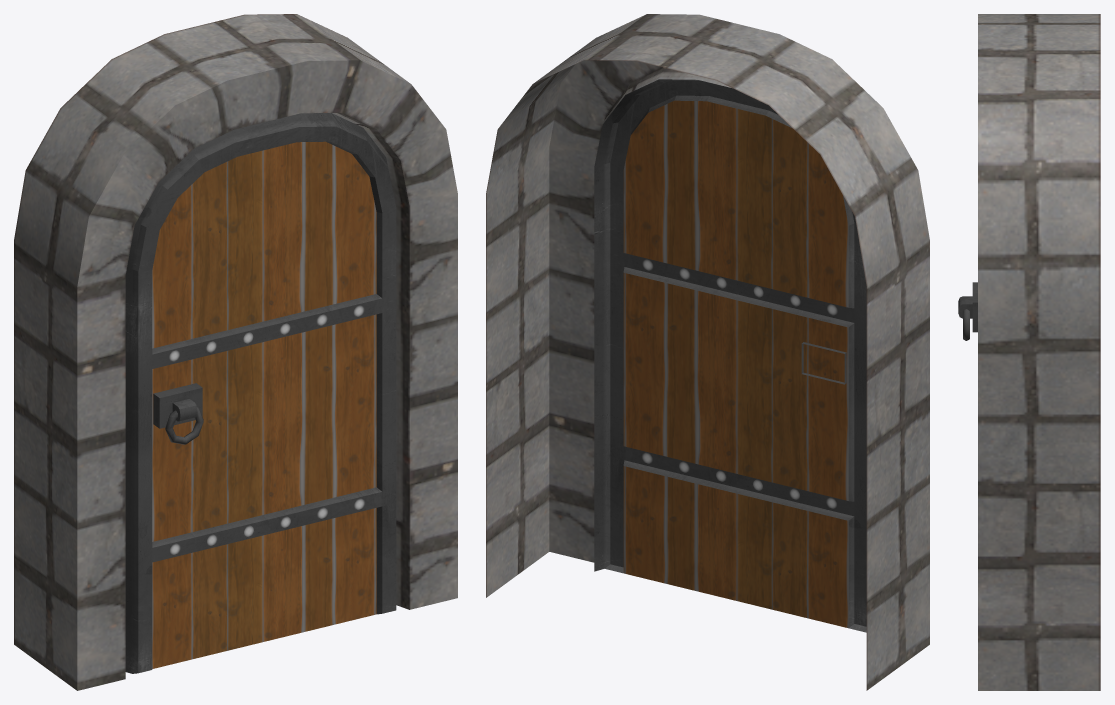
File: Module_Door_Round1.fbx
3 renders of one model, left to right at view 1: azimuth 30°, elevation 25°; view 2: azimuth 150°, elevation 25°; view 3: azimuth 270°, elevation 25°, orthographic. The views are drawn at different scales.
Visible parts, largest first — view 1: Module_Door_Round1; view 2: Module_Door_Round1; view 3: Module_Door_Round1.
Boxes of the visible parts, left/top/right/bottom form: Module_Door_Round1: left=14, top=14, right=457, bottom=690; Module_Door_Round1: left=486, top=14, right=929, bottom=690; Module_Door_Round1: left=958, top=14, right=1100, bottom=690.
Size of the model in its own units: 140 by 201 by 46.78.
